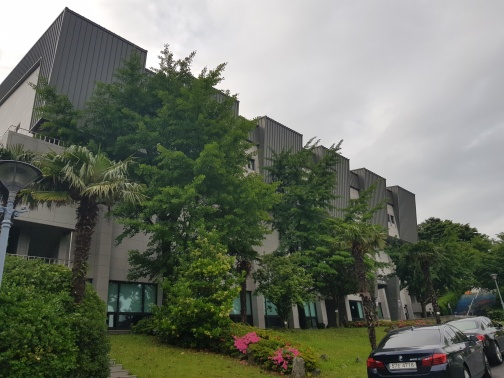Gym: (18, 14, 428, 320), (260, 118, 417, 242)
